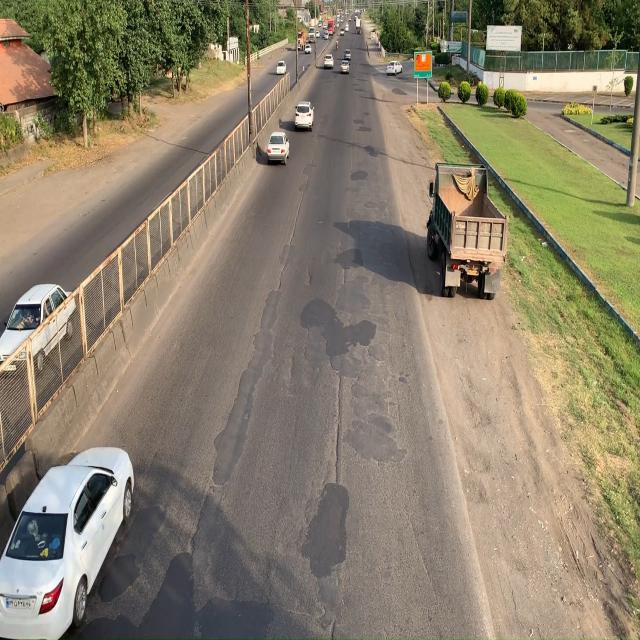Truck: (425, 160, 510, 303)
cars: (0, 412, 135, 640), (0, 278, 77, 379), (267, 127, 290, 165), (294, 95, 314, 130)
